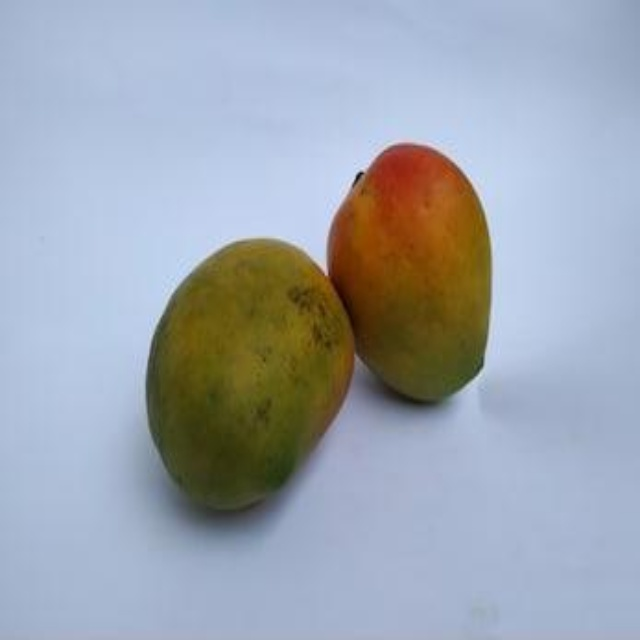mango: (146, 239, 349, 512), (328, 138, 502, 409)
